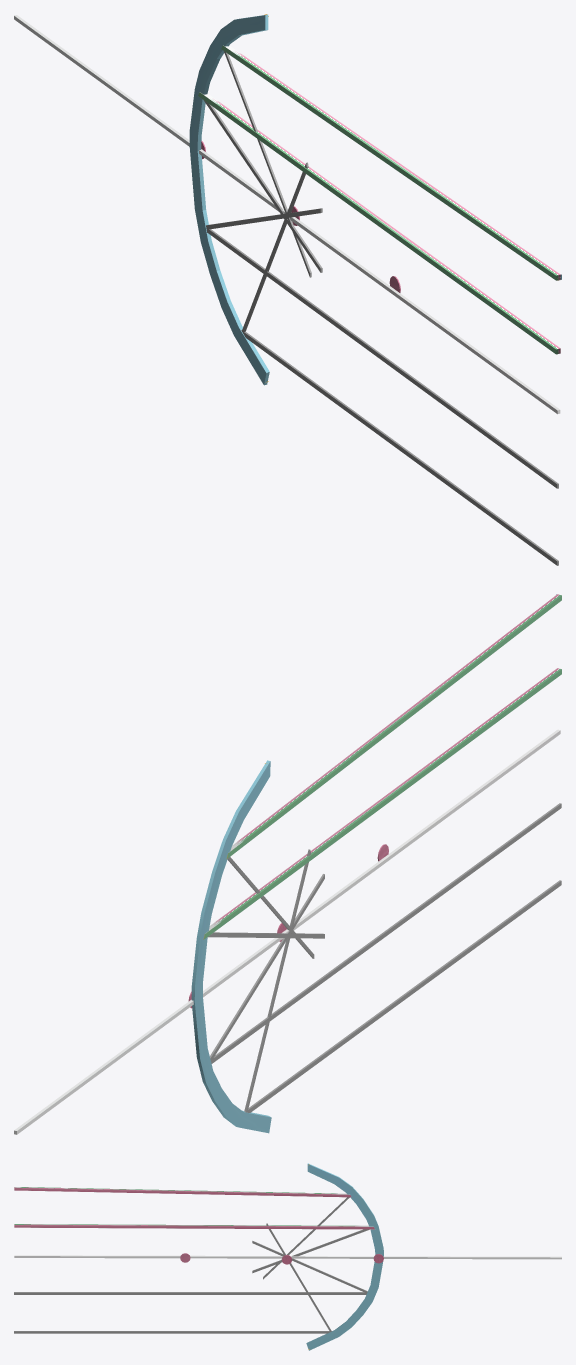
The model's file is para16.fbx.
3 renders of one model, top to bottom at view 1: azimuth 30°, elevation 25°; view 2: azimuth 150°, elevation 25°; view 3: azimuth 270°, elevation 25°, orthographic. The views are drawn at different scales.
Parts seen in each view (by area): view 1: para16; view 2: para16; view 3: para16.
Boxes of the visible parts, left/top/right/bottom form: para16: left=14, top=14, right=561, bottom=565; para16: left=14, top=594, right=561, bottom=1134; para16: left=14, top=1163, right=561, bottom=1350.
Bounding box in the file's own units: 1.02 × 38.58 × 102.
2 materials, 1 textured.
